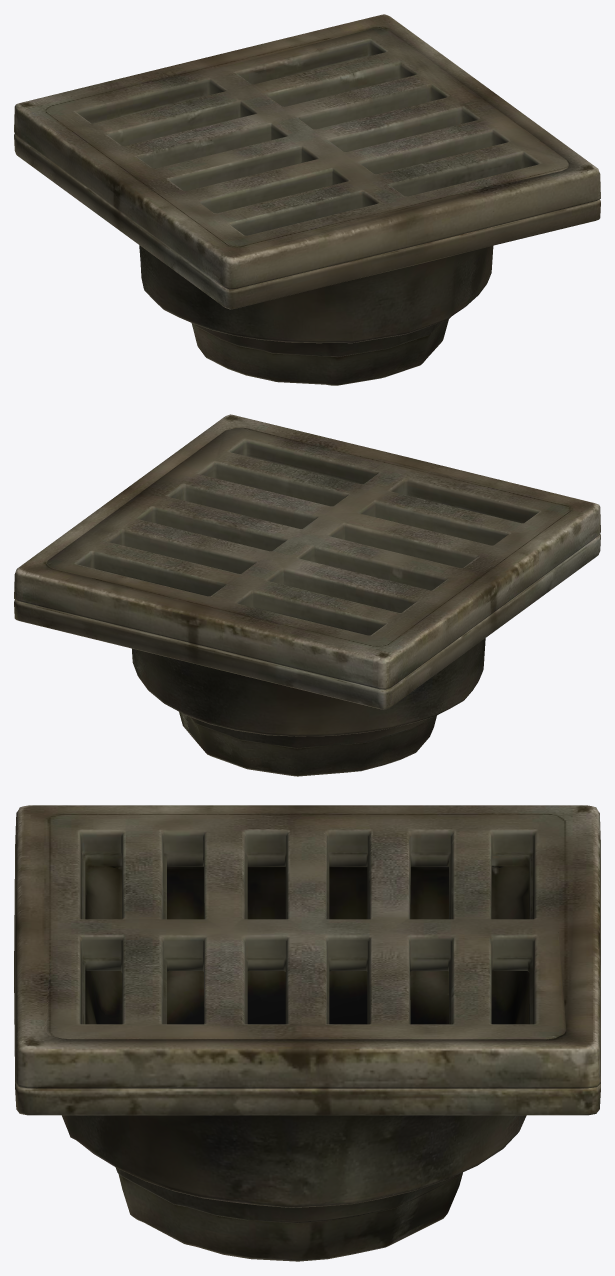
Rendered from mazgal.glb.
3 views of the same model, one above another, from view 1: azimuth 30°, elevation 25°; view 2: azimuth 150°, elevation 25°; view 3: azimuth 270°, elevation 25° (orthographic). The views are drawn at different scales.
Visible parts, largest first — view 1: tripo_node_54001e4c-9043-4322-8530-bb45f8bf2a10; view 2: tripo_node_54001e4c-9043-4322-8530-bb45f8bf2a10; view 3: tripo_node_54001e4c-9043-4322-8530-bb45f8bf2a10.
Boxes of the visible parts, x1=… form: tripo_node_54001e4c-9043-4322-8530-bb45f8bf2a10: x1=14, y1=14, x2=600, y2=385; tripo_node_54001e4c-9043-4322-8530-bb45f8bf2a10: x1=14, y1=414, x2=600, y2=776; tripo_node_54001e4c-9043-4322-8530-bb45f8bf2a10: x1=14, y1=805, x2=600, y2=1261.
Size of the model in its own units: 0.9763 by 0.4776 by 0.9781.
1 material, 1 textured.
